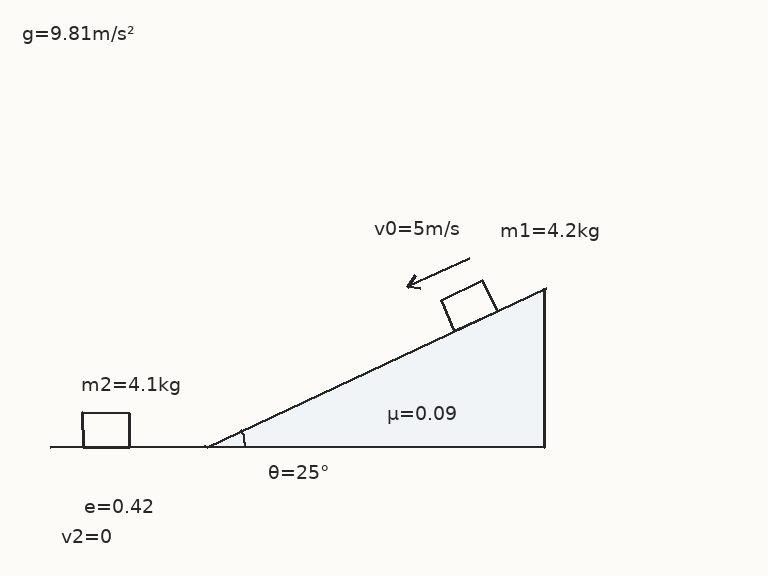block: (438, 278, 499, 333), (81, 411, 131, 449)
ramp: (203, 287, 546, 449)
